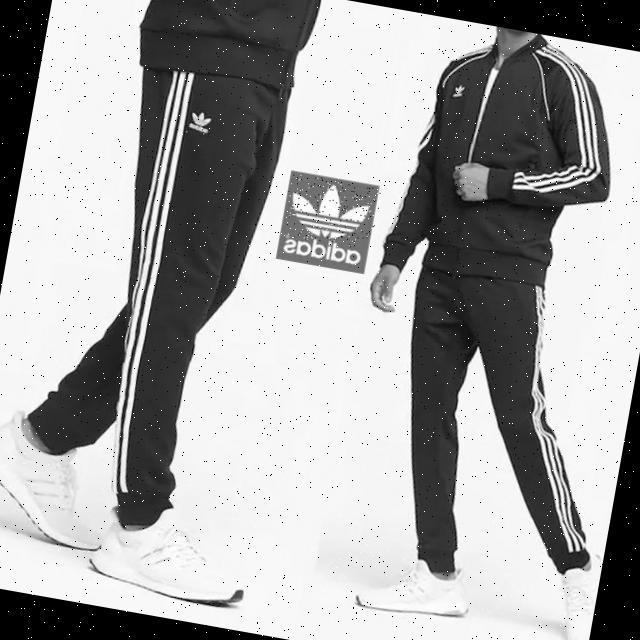Adidas: (280, 172, 382, 251), (178, 100, 221, 138)
